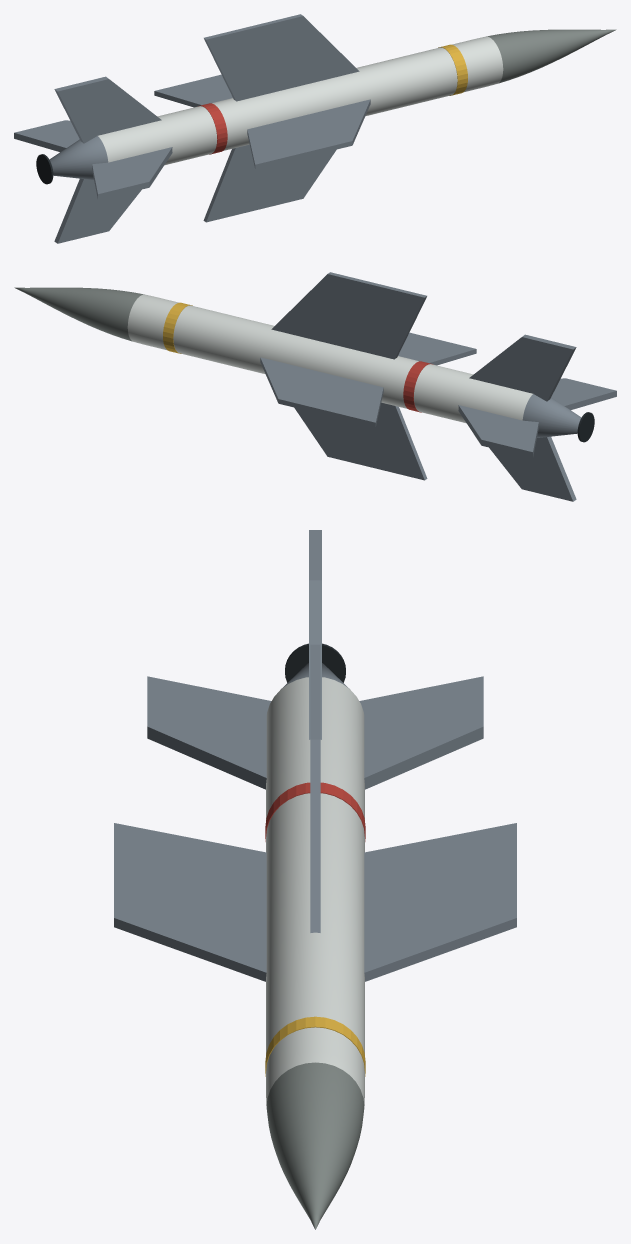
The model's file is cw90_harpoon.glb.
3 renders of one model, top to bottom at view 1: azimuth 30°, elevation 25°; view 2: azimuth 150°, elevation 25°; view 3: azimuth 270°, elevation 25°, orthographic. The views are drawn at different scales.
Parts seen in each view (by area): view 1: cw90_harpoon; view 2: cw90_harpoon; view 3: cw90_harpoon.
Part boxes in pixels (x1,y1,x2,y2): cw90_harpoon: (14,14,616,243); cw90_harpoon: (14,272,616,501); cw90_harpoon: (114,530,516,1229).
Bounding box in the file's own units: 10 × 3.05 × 3.05.
